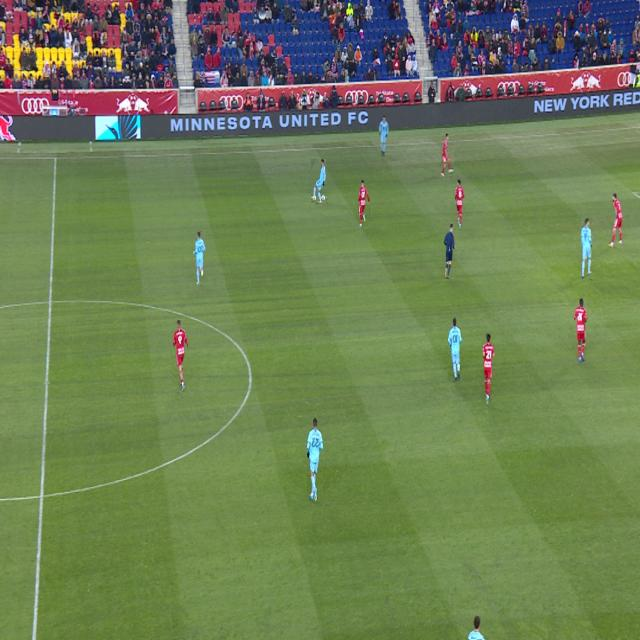football: (322, 196, 325, 201)
player: (307, 419, 323, 502), (174, 321, 187, 392), (448, 318, 462, 381), (574, 299, 587, 362), (483, 334, 494, 406), (608, 194, 622, 247), (193, 232, 206, 285), (581, 219, 592, 279), (312, 159, 326, 203), (441, 133, 454, 177), (359, 180, 369, 227), (455, 180, 464, 229), (379, 116, 389, 155), (468, 617, 484, 639)
referee: (443, 224, 455, 279)
